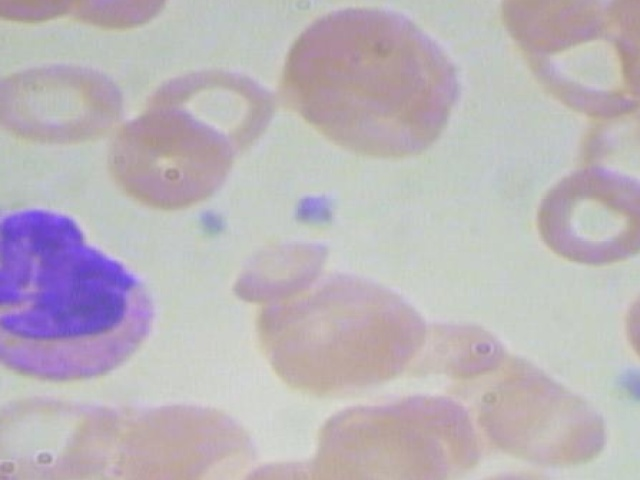Platelets: (275, 187, 341, 236), (598, 361, 640, 404)
RBC: (96, 109, 241, 215), (0, 55, 139, 148), (113, 399, 261, 480), (525, 163, 640, 265), (213, 237, 333, 301), (0, 450, 28, 480)
WBC: (0, 185, 174, 388)
